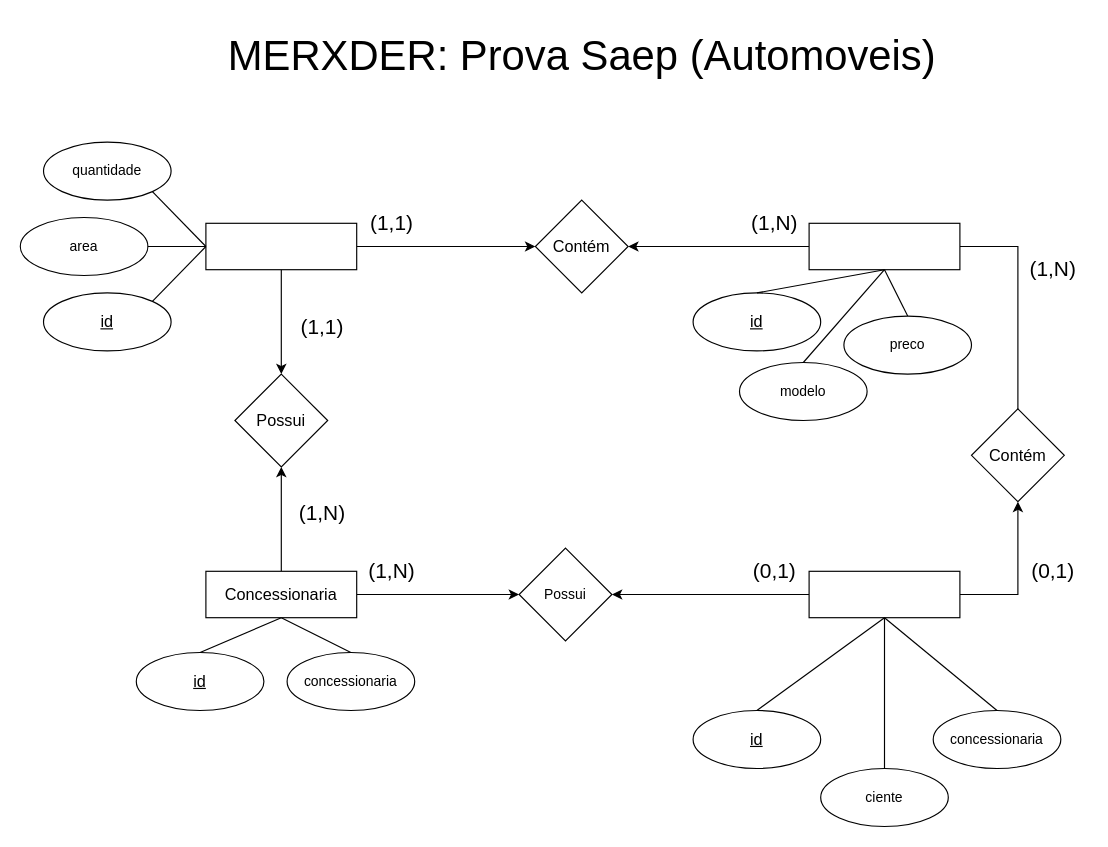
Image size: 1108x847. Some labels were removed from this diagram. The centre of each missing label's shape, as x and y in pixels:
Alocacao: the point at 281,246
Automovel: the point at 884,246
Venda: the point at 884,594
